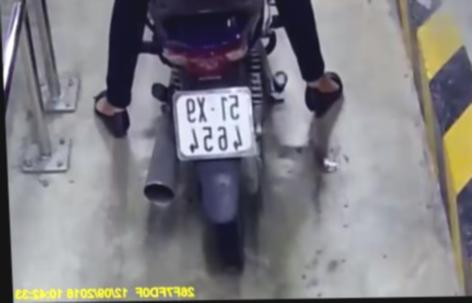License_Plate: (167, 80, 261, 170)
